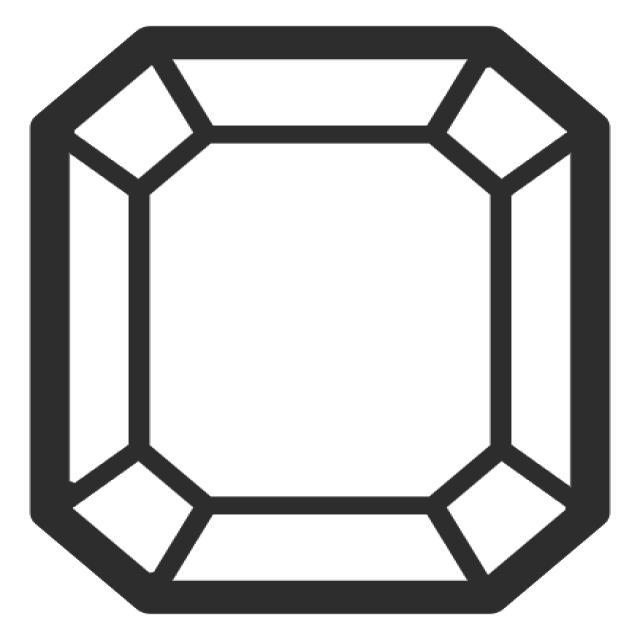emerald: (22, 21, 623, 620)
